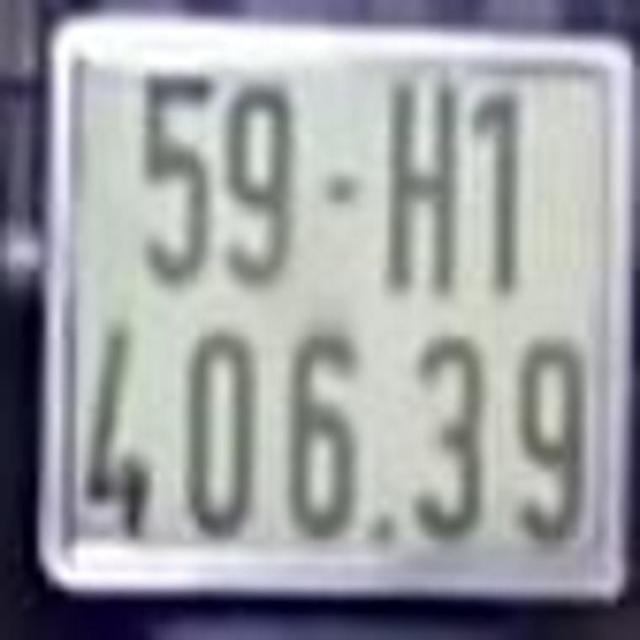0: (180, 326, 256, 532)
1: (471, 80, 524, 290)
3: (404, 328, 482, 533)
4: (77, 319, 155, 535)
5: (133, 65, 211, 274)
6: (271, 324, 356, 534)
9: (511, 320, 588, 540), (218, 77, 296, 280)
H: (384, 71, 462, 294)
